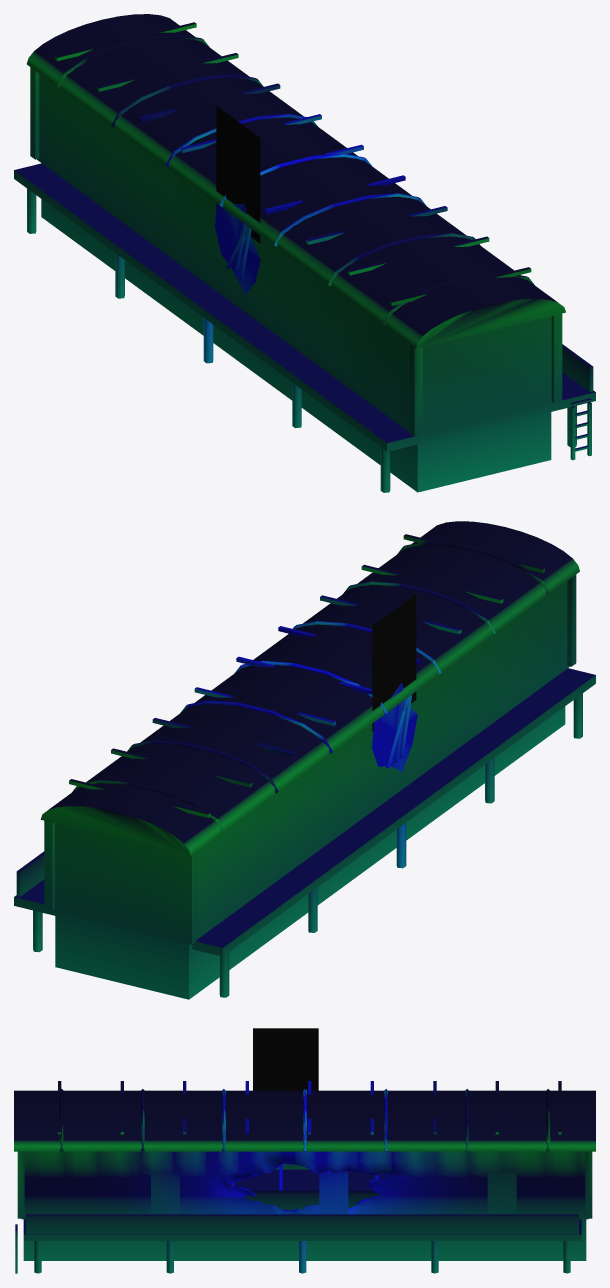
The model's file is s_barracks2_damaged.glb.
3 renders of one model, top to bottom at view 1: azimuth 30°, elevation 25°; view 2: azimuth 150°, elevation 25°; view 3: azimuth 270°, elevation 25°, orthographic. The views are drawn at different scales.
Parts seen in each view (by area): view 1: lod0; view 2: lod0; view 3: lod0.
Part boxes in pixels (x1,y1,x2,y2): lod0: (14,14,595,492); lod0: (14,521,595,999); lod0: (14,1028,595,1273).
Size of what is drawn, in the model's own units: 7.5 by 8.36 by 24.2.
